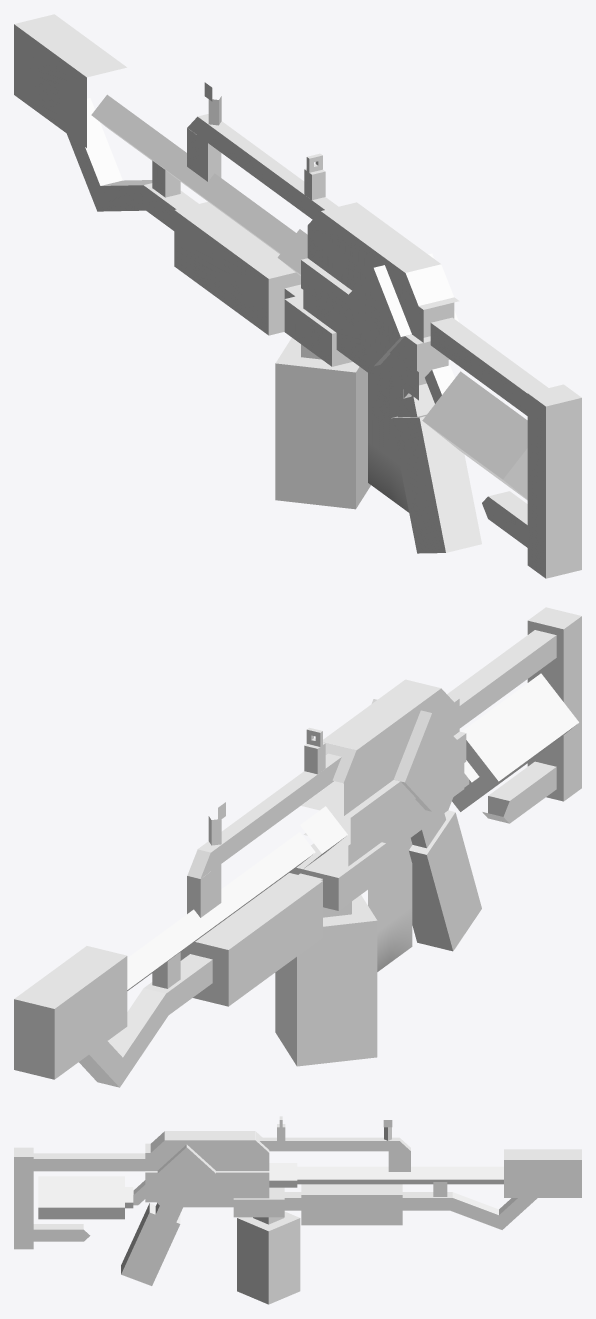
The model's file is jeg_flamethrower.glb.
3 views of the same model, one above another, from view 1: azimuth 30°, elevation 25°; view 2: azimuth 150°, elevation 25°; view 3: azimuth 270°, elevation 25° (orthographic). The views are drawn at different scales.
Visible parts, largest first — view 1: Gun; view 2: Gun; view 3: Gun.
Boxes of the visible parts, bbox=[...] form: Gun: bbox=[14, 14, 581, 578]; Gun: bbox=[14, 607, 581, 1087]; Gun: bbox=[14, 1116, 581, 1304].
Size of the model in its own units: 0.1414 by 0.4281 by 1.27.
Materials: 1 (1 with a texture image).
